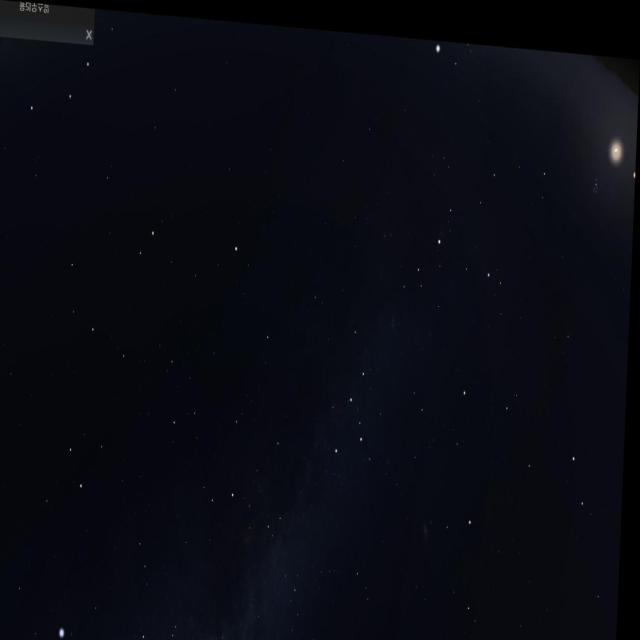ursa_major: (324, 309, 380, 466)
